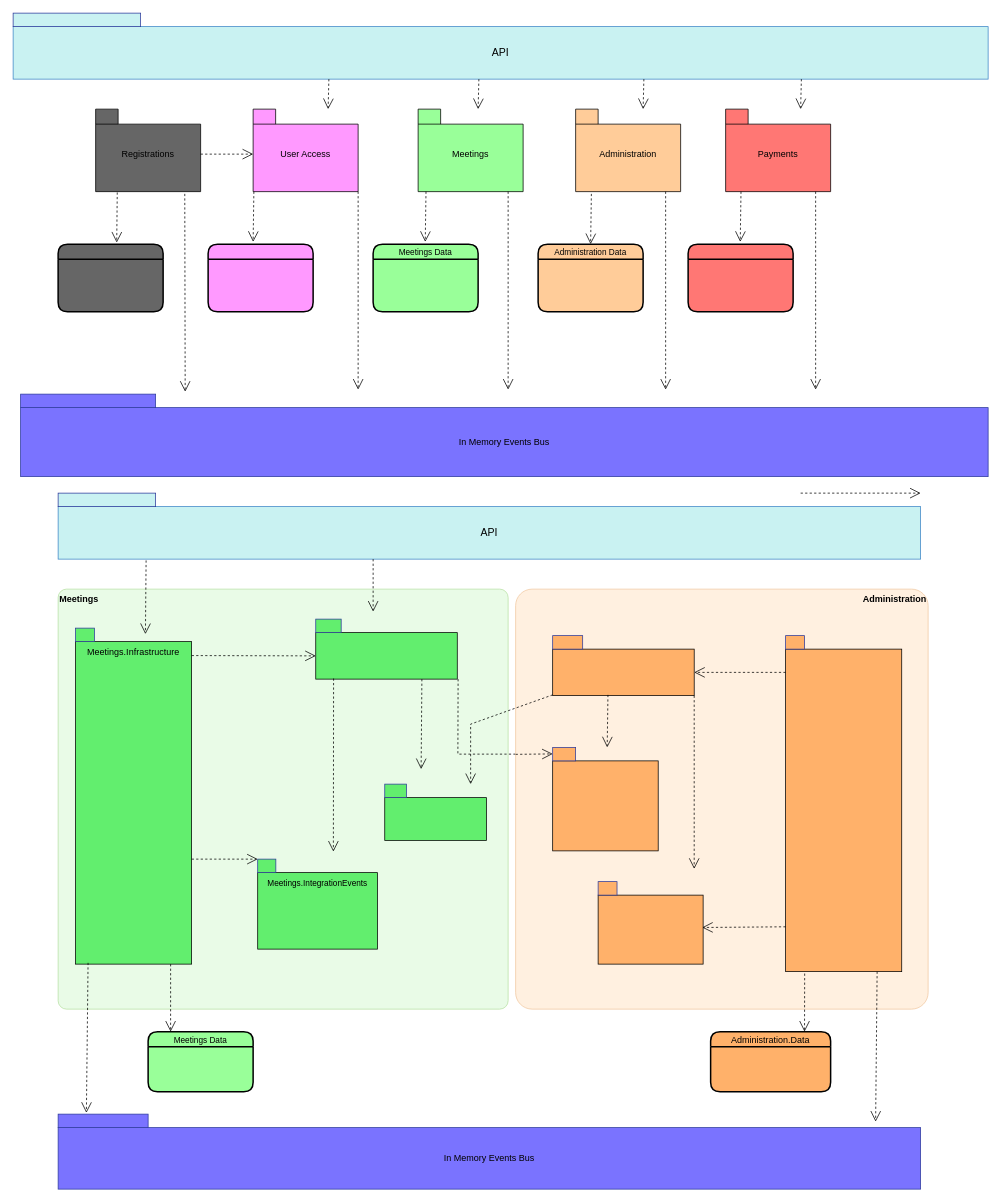
Image size: 1001x1202. Some labels were removed from this diagram. Each missing label, with the box of its shape:
Administration.Application: (552, 648, 694, 696)
Administration.Domain: (597, 894, 703, 964)
Administration.Infrastructure: (785, 648, 902, 972)
Administration.Integration Events: (552, 760, 658, 851)
Meetings.Application: (315, 632, 457, 679)
Meetings.Domain: (384, 797, 486, 840)
Payments Data: (687, 243, 794, 312)
Registrations Data: (57, 243, 164, 312)
User Access Data: (207, 243, 314, 312)
